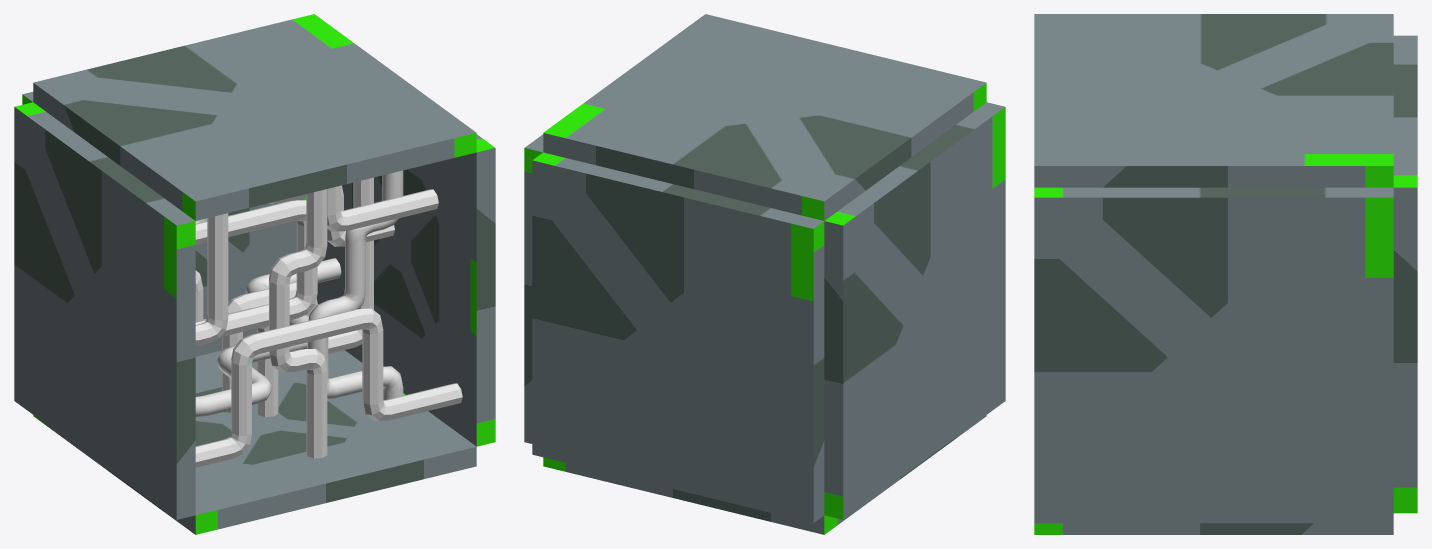
File: PipeBack.fbx
3 renders of one model, left to right at view 1: azimuth 30°, elevation 25°; view 2: azimuth 150°, elevation 25°; view 3: azimuth 270°, elevation 25°, orthographic. The views are drawn at different scales.
Parts seen in each view (by area): view 1: Left, Top, Rigth, Down, PipeH04, PipeV04, PipeH05, PipeV02, Back, PipeV03, PipeV05, PipeH3 (+1 smaller); view 2: Back, Left, Top, Down, Rigth; view 3: Rigth, Top, Back, Down.
Part boxes in pixels (x1=…): Left: x1=14, y1=102, x2=195, y2=519; Top: x1=33, y1=14, x2=476, y2=220; Rigth: x1=316, y1=134, x2=495, y2=446; Down: x1=33, y1=350, x2=476, y2=534; PipeH04: x1=195, y1=308, x2=462, y2=467; PipeV04: x1=269, y1=189, x2=327, y2=458; PipeH05: x1=195, y1=185, x2=438, y2=346; PipeV02: x1=307, y1=170, x2=403, y2=400; Back: x1=22, y1=92, x2=306, y2=356; PipeV03: x1=195, y1=200, x2=317, y2=337; PipeV05: x1=222, y1=177, x2=373, y2=390; PipeH3: x1=195, y1=258, x2=341, y2=417; Back: x1=532, y1=152, x2=824, y2=523; Left: x1=824, y1=102, x2=1005, y2=519; Top: x1=543, y1=14, x2=986, y2=220; Down: x1=543, y1=415, x2=986, y2=534; Rigth: x1=524, y1=134, x2=543, y2=443; Rigth: x1=1034, y1=187, x2=1393, y2=523; Top: x1=1034, y1=14, x2=1393, y2=187; Back: x1=1393, y1=35, x2=1417, y2=513; Down: x1=1034, y1=523, x2=1393, y2=534.
Bounding box in the file's own units: 3.4 × 3.4 × 3.2.
